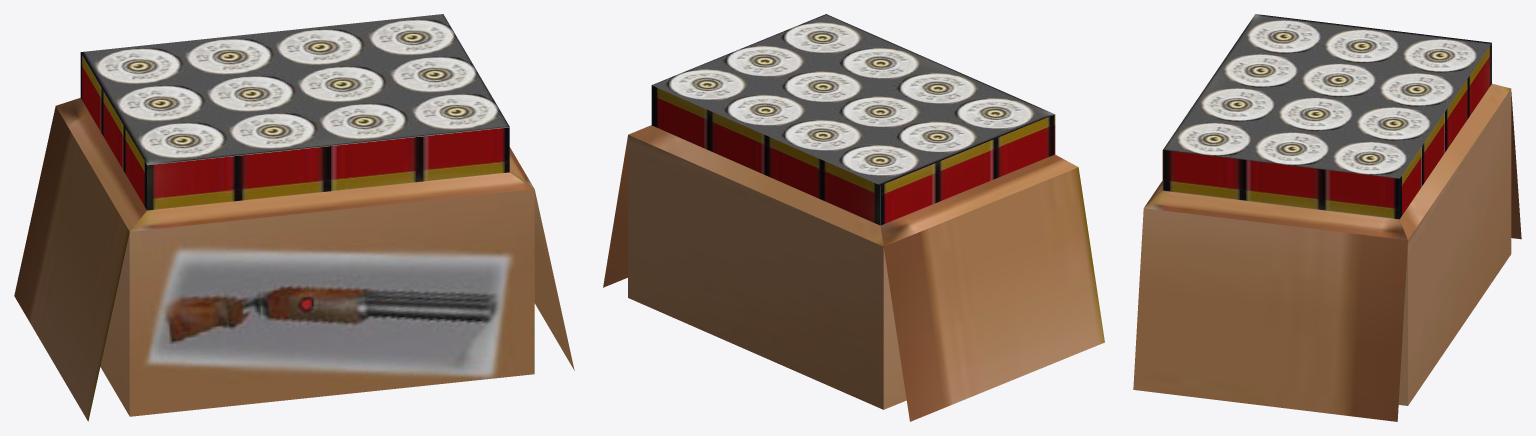
File: GunBul50.fbx
The picture shows the model from 3 angles, left to right: view 1: azimuth 30°, elevation 25°; view 2: azimuth 150°, elevation 25°; view 3: azimuth 270°, elevation 25°; orthographic projection. The views are drawn at different scales.
Visible parts, largest first — view 1: GunBul50; view 2: GunBul50; view 3: GunBul50.
Boxes of the visible parts, x1,y1,x2,y2 form: GunBul50: (14, 14, 574, 421); GunBul50: (603, 14, 1104, 421); GunBul50: (1133, 14, 1521, 421).
Size of the model in its own units: 2.72 by 1.29 by 2.08.
